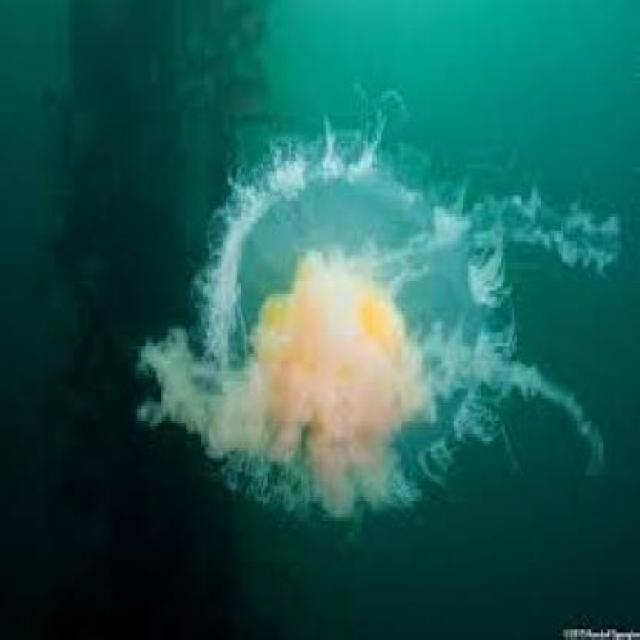Jellyfish: (130, 73, 638, 536)
